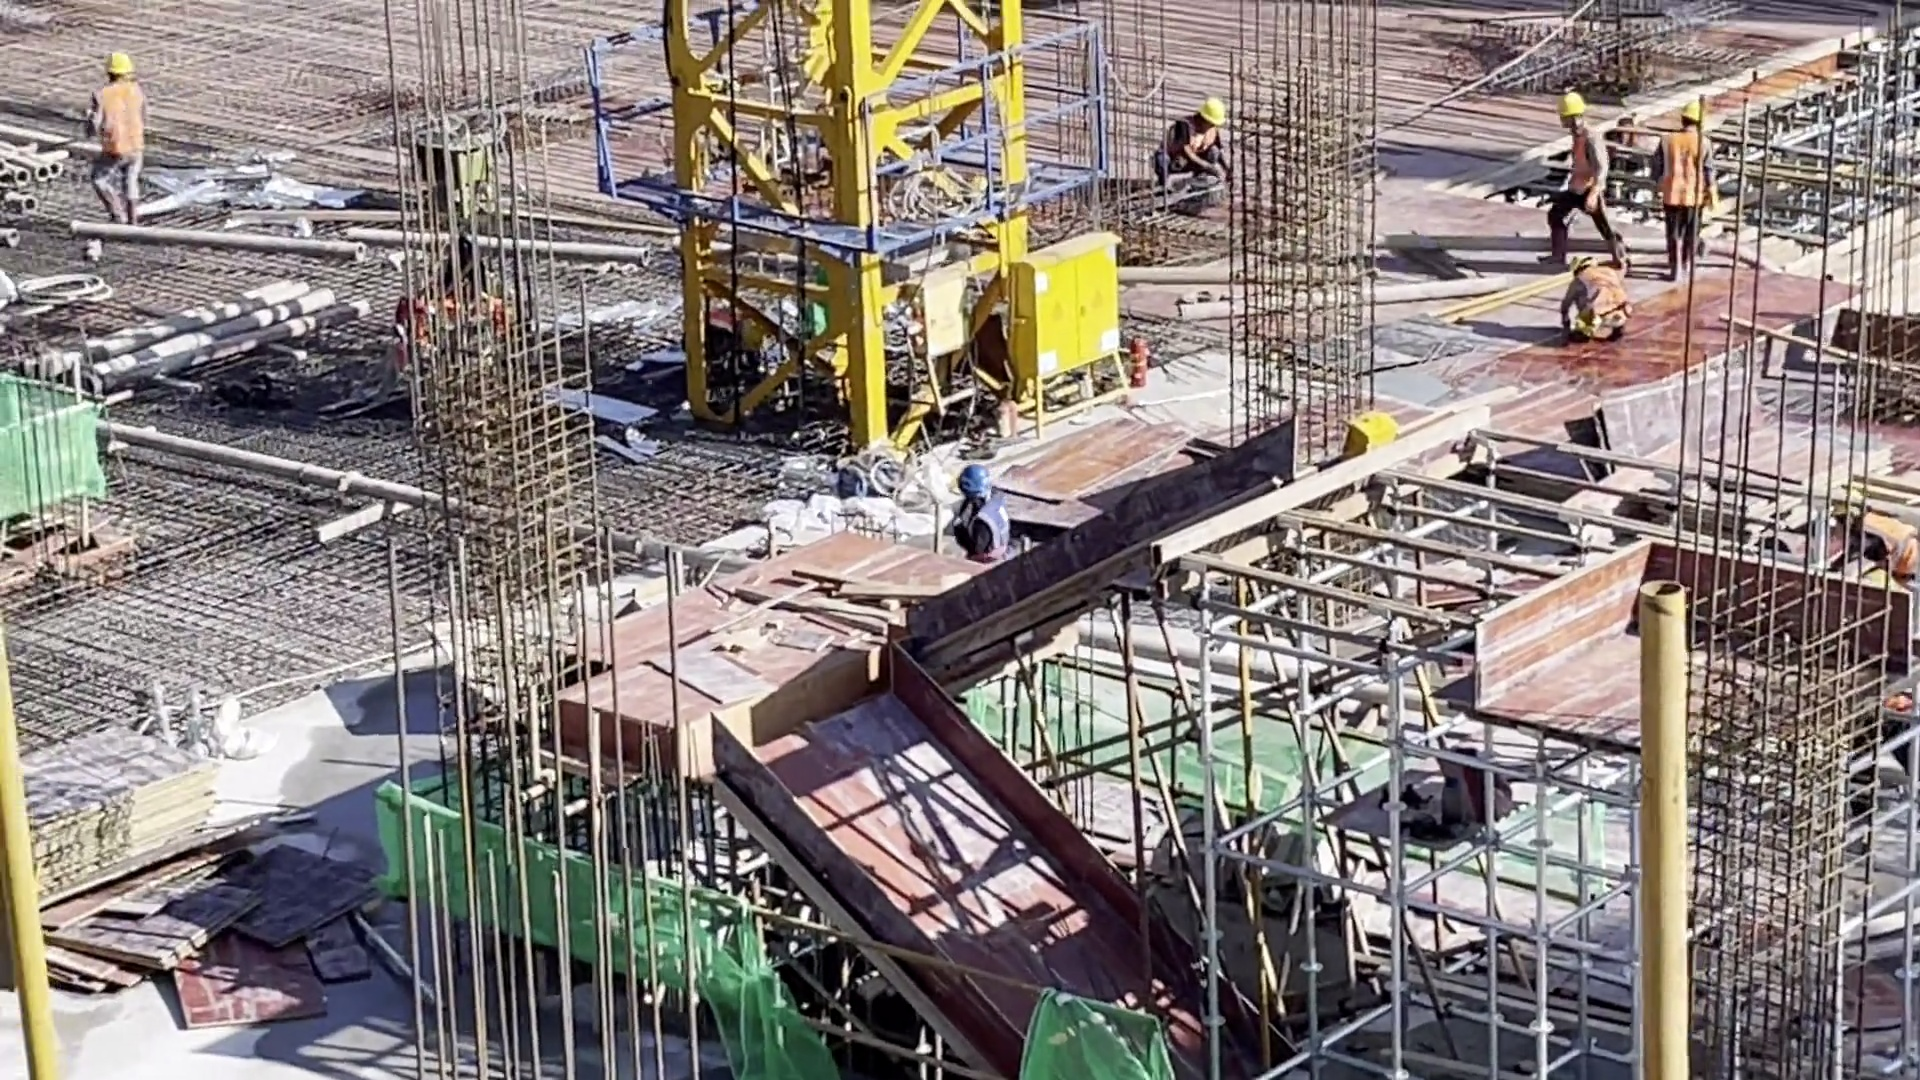board: (80, 854, 375, 1036), (7, 731, 226, 912)
ebox: (1000, 230, 1132, 426), (911, 260, 972, 390), (1343, 407, 1397, 457)
helmet: (950, 465, 999, 500), (1826, 480, 1868, 518), (102, 42, 131, 77), (1558, 92, 1593, 120), (1199, 100, 1227, 133), (1679, 99, 1710, 123)
person: (1548, 84, 1633, 270), (81, 43, 149, 231), (1831, 477, 1920, 611), (1653, 96, 1716, 273), (1144, 98, 1232, 197), (940, 461, 1019, 566), (1558, 258, 1638, 346)
vest: (1657, 129, 1710, 221), (1862, 507, 1920, 586), (1150, 118, 1217, 182), (99, 79, 143, 161), (1574, 268, 1631, 325), (953, 504, 1009, 562), (1564, 127, 1604, 198)
